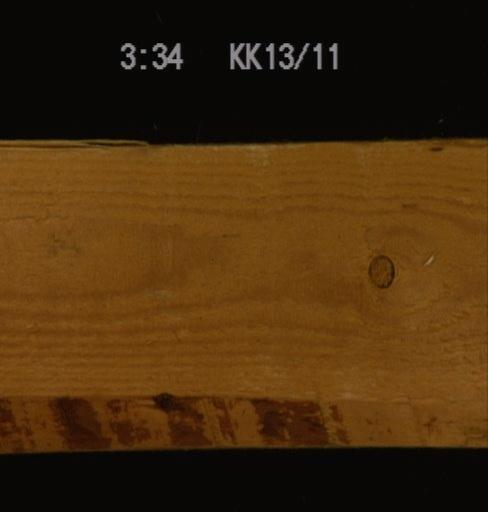dry_knot: (364, 252, 393, 288)
wave: (0, 387, 486, 449), (417, 137, 486, 157)
